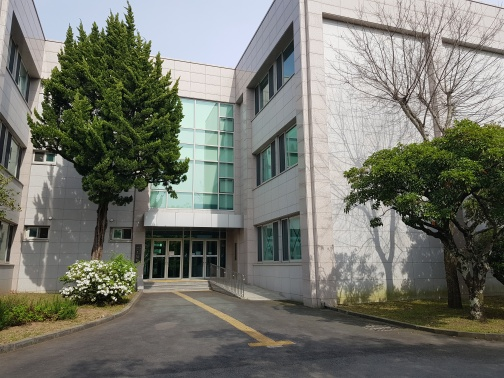College of Nursing: (22, 31, 464, 293)
